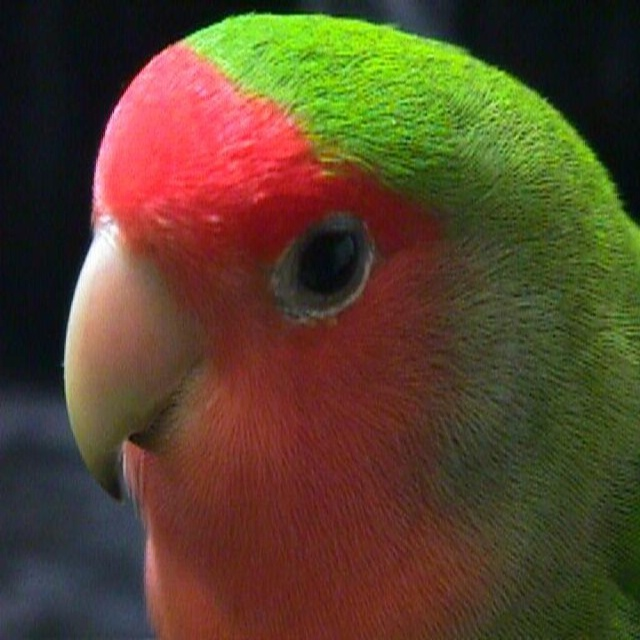Parrot: (62, 9, 639, 639)
